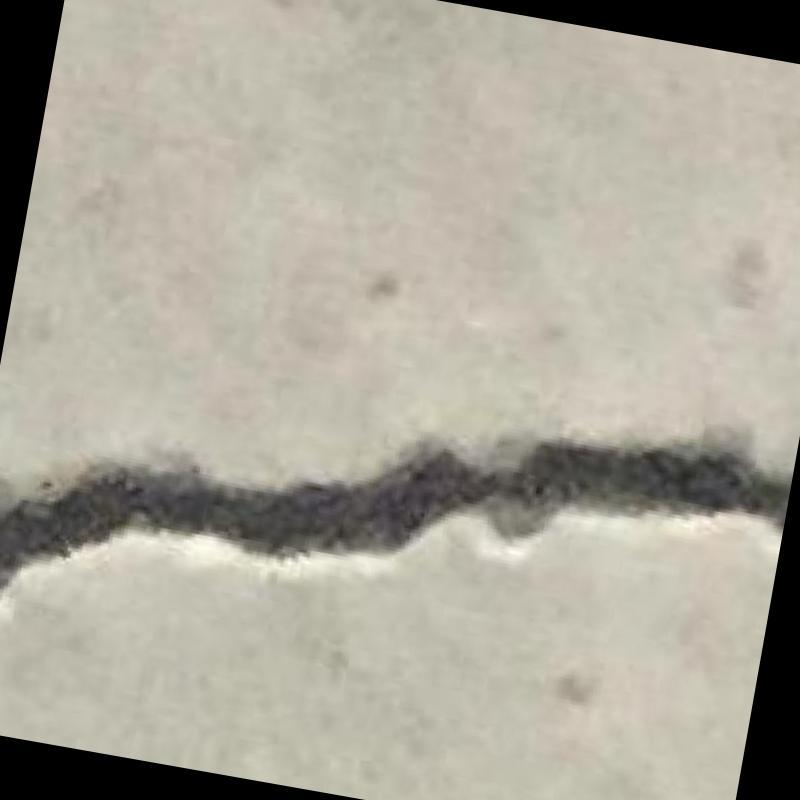crack: (0, 440, 792, 589)
